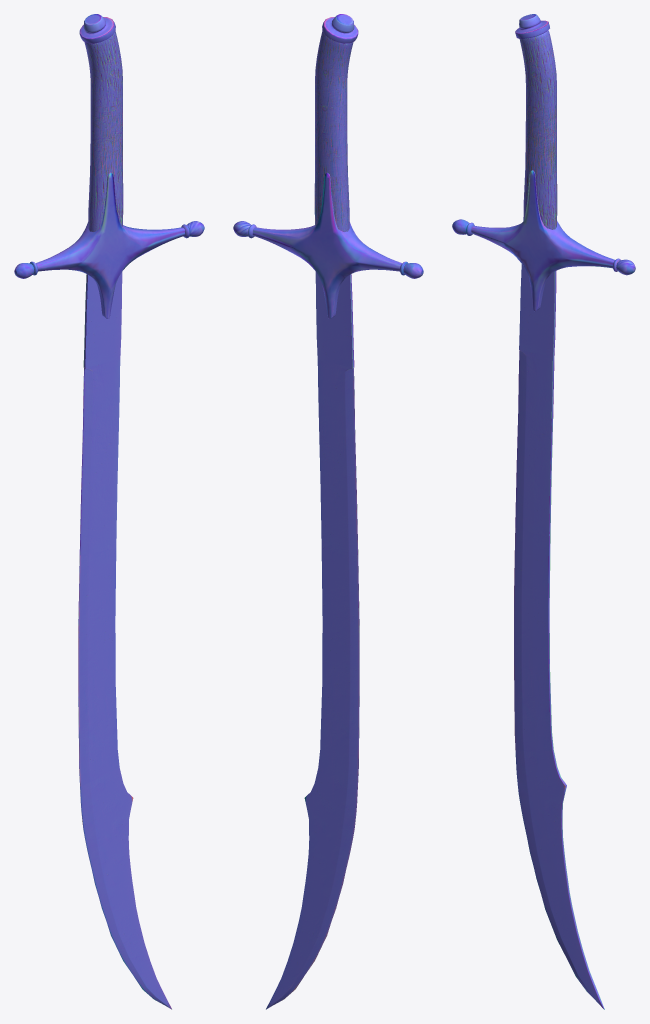
File: SM_Scimtar_1.fbx
3 views of the same model, side by side, from view 1: azimuth 30°, elevation 25°; view 2: azimuth 150°, elevation 25°; view 3: azimuth 330°, elevation 25° (orthographic). The views are drawn at different scales.
Parts seen in each view (by area): view 1: SM_Scimtar_1; view 2: SM_Scimtar_1; view 3: SM_Scimtar_1.
Boxes of the visible parts, <box> form: SM_Scimtar_1: <box>14,14,204,1009</box>; SM_Scimtar_1: <box>233,14,423,1009</box>; SM_Scimtar_1: <box>452,14,635,1009</box>.
Bounding box in the file's own units: 18.71 × 96.47 × 3.19.
